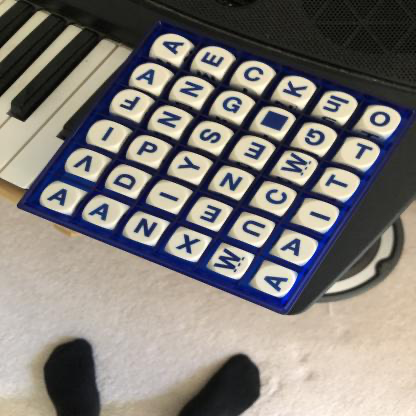a: (256, 266, 296, 297), (276, 234, 318, 263), (41, 184, 82, 213), (86, 198, 124, 227), (132, 64, 169, 91), (154, 36, 192, 61)
c: (258, 184, 296, 212), (236, 62, 274, 89)
d: (109, 167, 148, 195)
e: (193, 199, 231, 230), (237, 138, 274, 166), (197, 48, 235, 75)
f: (113, 92, 151, 116)
g: (298, 124, 337, 153), (216, 92, 254, 120)
i: (300, 201, 340, 231), (150, 183, 190, 210), (88, 122, 127, 148)
in: (319, 92, 359, 121)
k: (278, 76, 315, 105)
n: (127, 215, 166, 245), (214, 168, 253, 197), (152, 107, 191, 135), (174, 77, 210, 104)
o: (363, 106, 401, 135)
p: (131, 137, 167, 162)
s: (193, 123, 231, 149)
t: (341, 139, 381, 169), (321, 170, 361, 199)
u: (233, 215, 273, 245)
v: (68, 150, 107, 178)
w: (212, 247, 252, 278), (278, 153, 316, 181)
wild: (257, 109, 293, 137)
x: (169, 230, 209, 260)
y: (172, 154, 211, 181)
